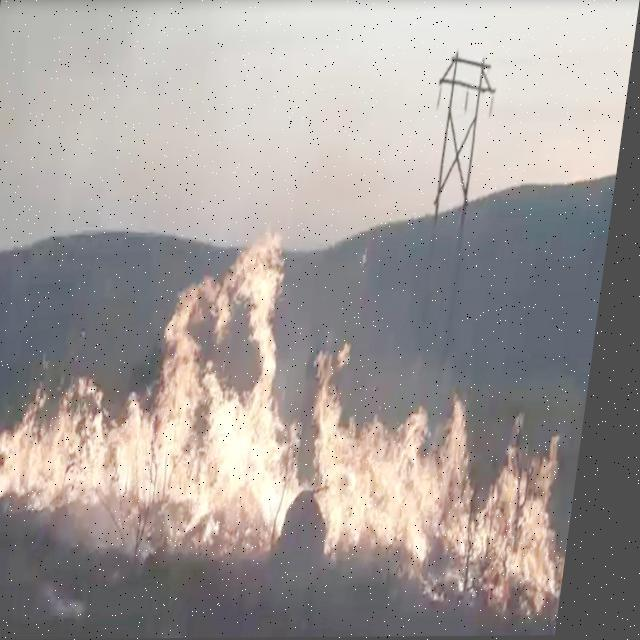Fire: (0, 223, 334, 545), (302, 348, 598, 610)
